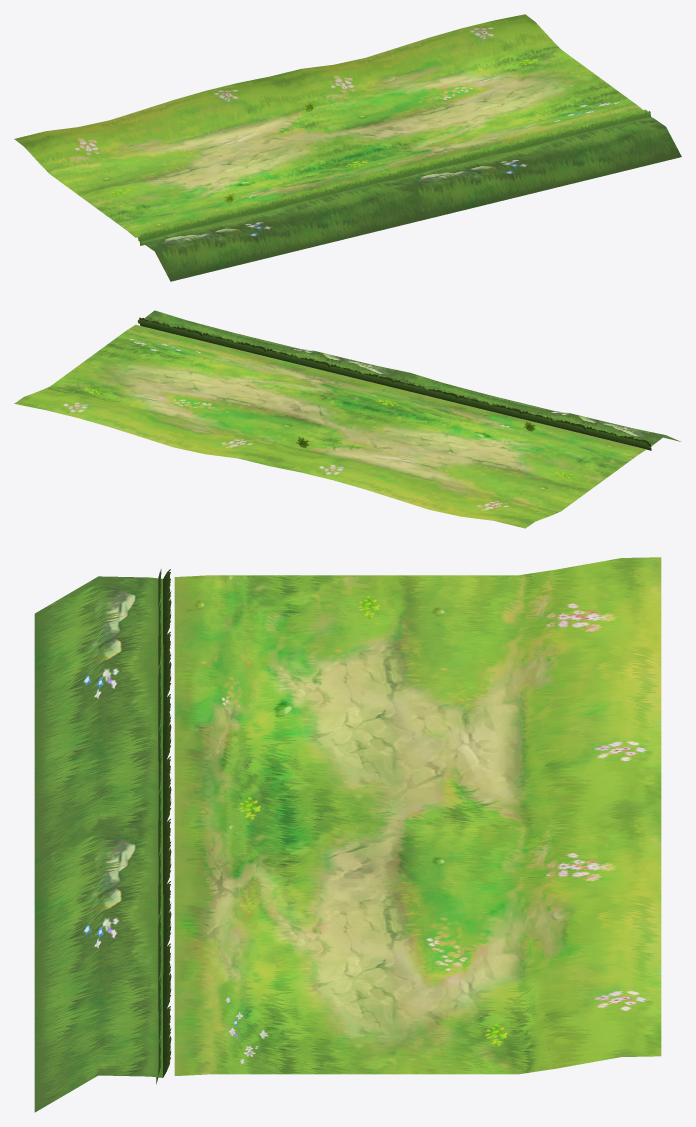
Rendered from SM_S01_ny_grd02_AAB.fbx.
The picture shows the model from 3 angles, top to bottom: view 1: azimuth 30°, elevation 25°; view 2: azimuth 150°, elevation 25°; view 3: azimuth 270°, elevation 25°; orthographic projection. The views are drawn at different scales.
Parts seen in each view (by area): view 1: SM_S01_ny_grd02_AAB; view 2: SM_S01_ny_grd02_AAB; view 3: SM_S01_ny_grd02_AAB.
Part boxes in pixels (x1,y1,x2,y2): SM_S01_ny_grd02_AAB: [14, 14, 681, 281]; SM_S01_ny_grd02_AAB: [14, 310, 680, 528]; SM_S01_ny_grd02_AAB: [34, 557, 661, 1112].
Bounding box in the file's own units: 3200 × 187 × 1698.
